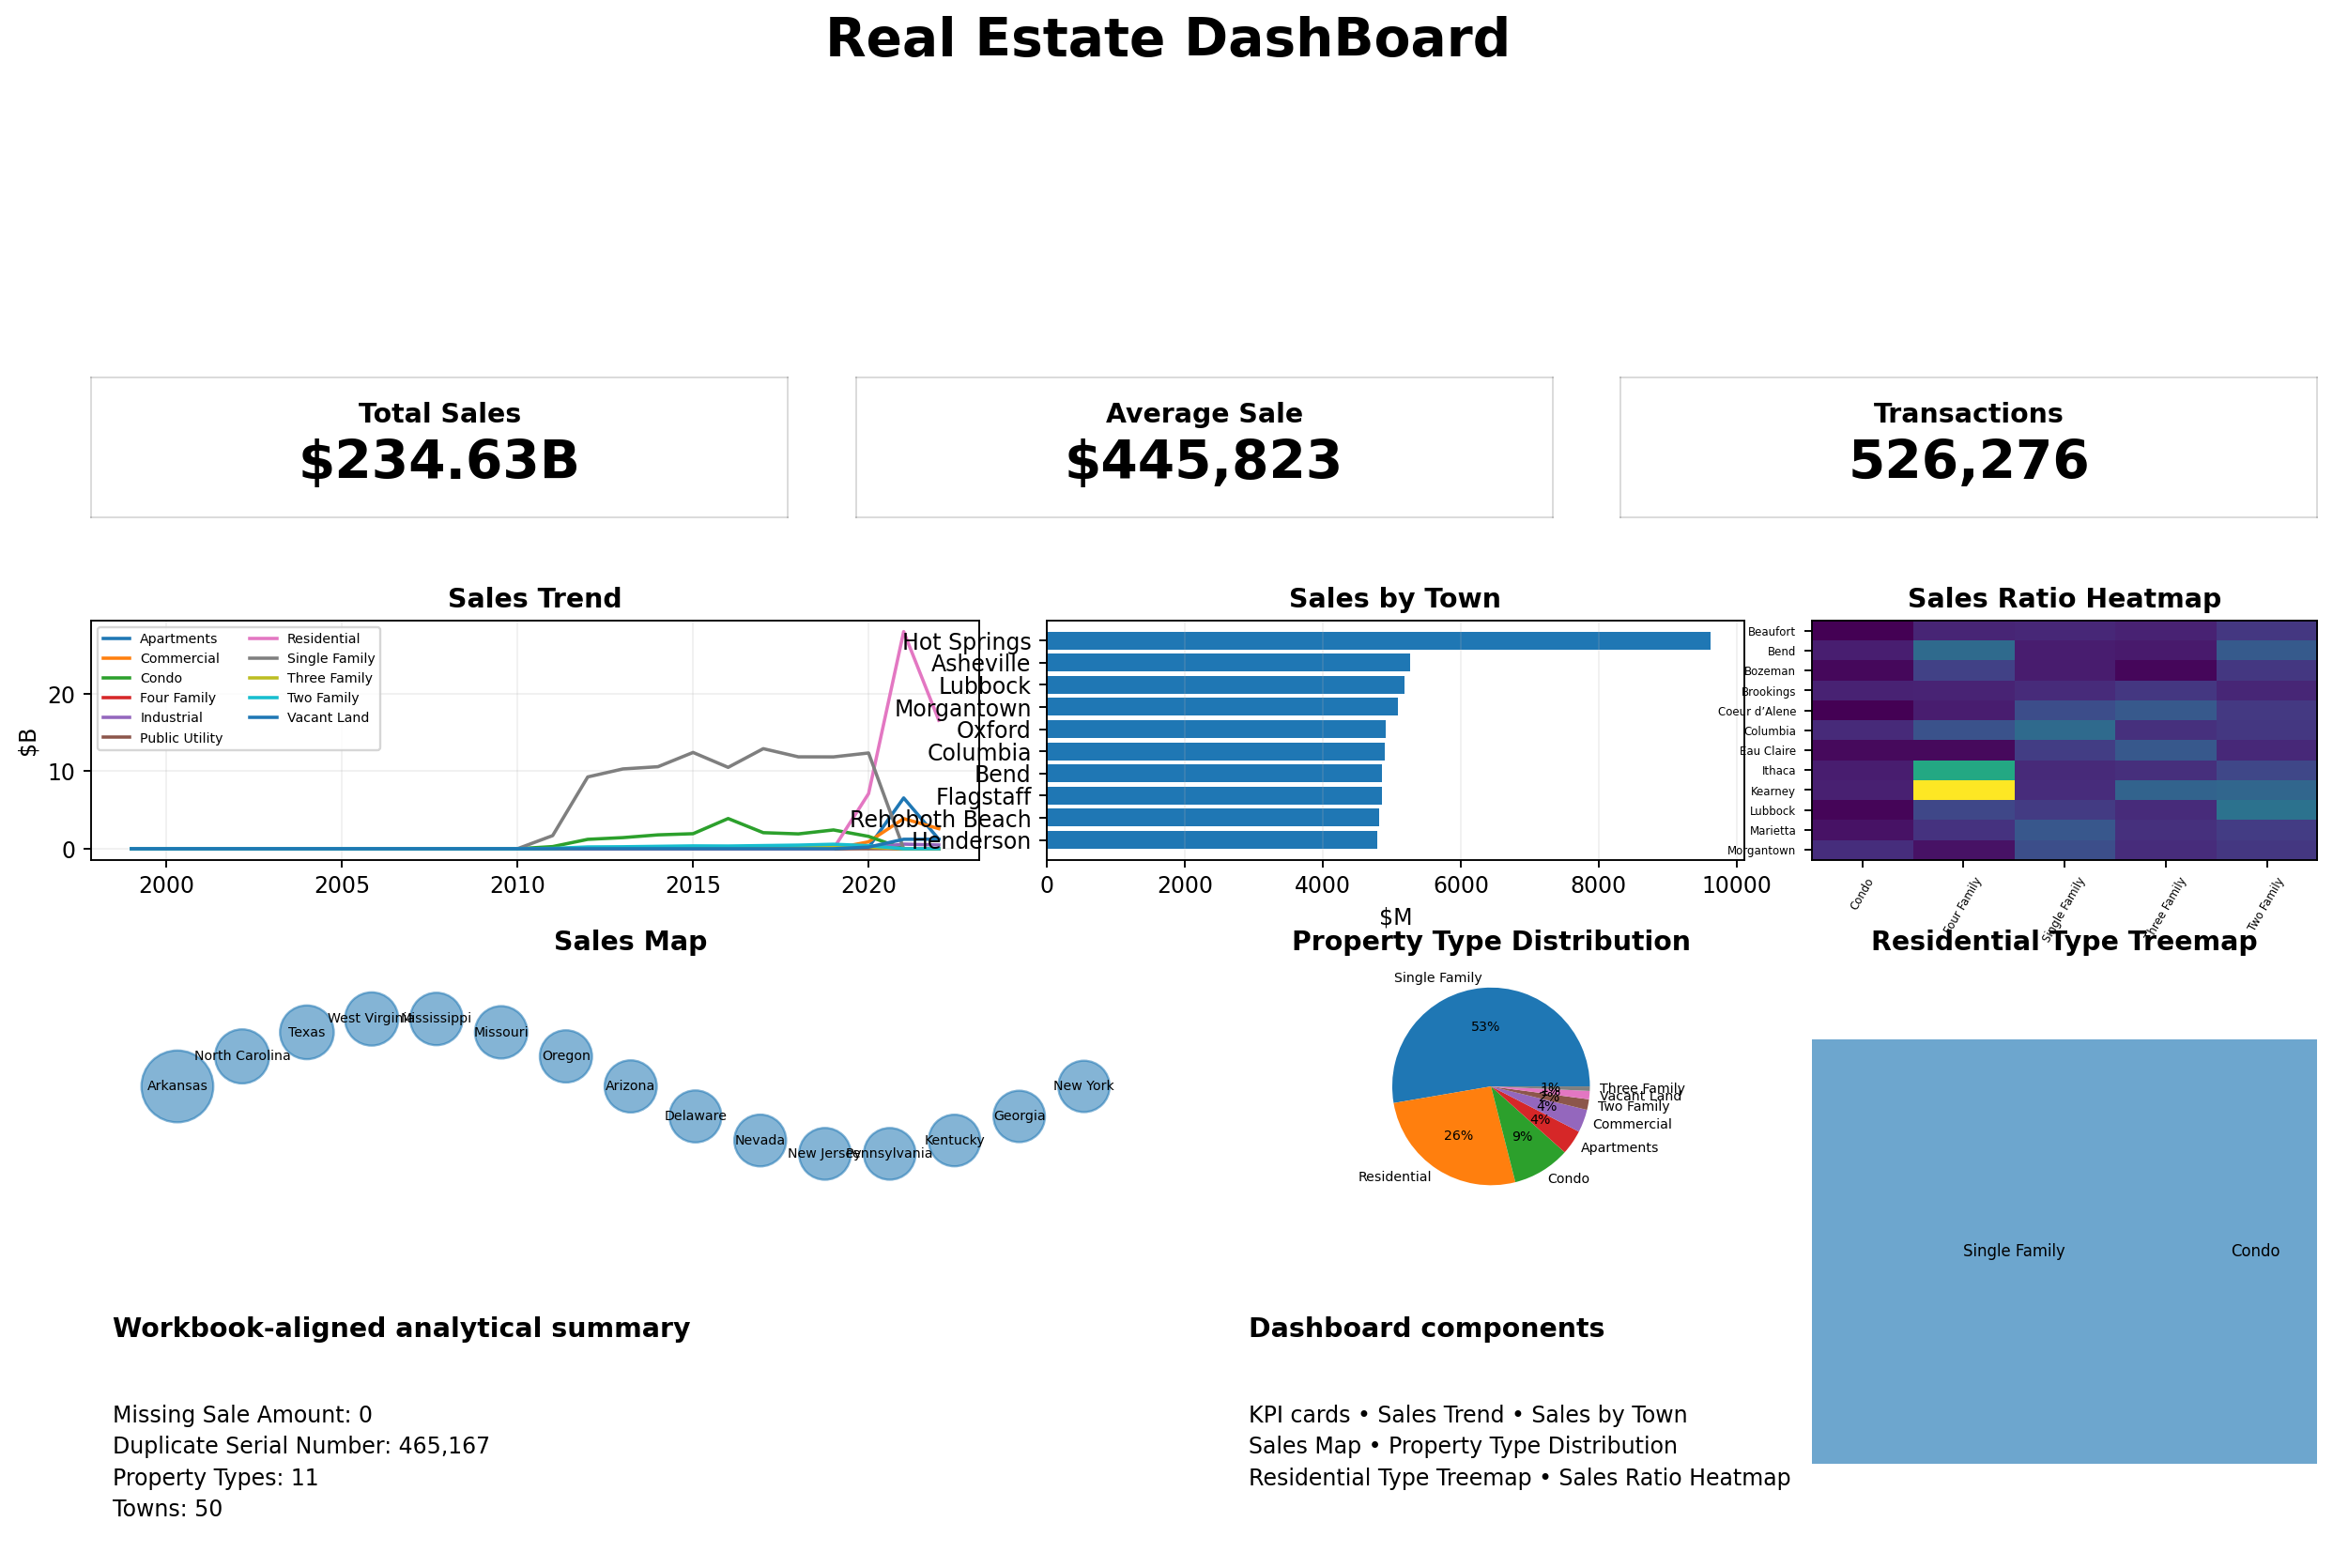

The page's visual inventory and layout, read from the dashboard file:
{"tool":"tableau","page":{"name":"Real Estate DashBoard","canvas":[1200,900],"ordinal":0},"visuals":[{"type":"text","box":[8,8,1031,37]},{"type":"parameter","param":"[Parameters].[Parameter 0372011156000775]","box":[1039,8,153,235]},{"type":"worksheet","title":"KPI - Total Sales","mark":"Automatic","box":[8,45,148,93]},{"type":"worksheet","title":"KPI - Average Sale","mark":"Automatic","box":[156,45,216,93]},{"type":"worksheet","title":"KPI - Transactions","mark":"Automatic","box":[372,45,208,93]},{"type":"legend","title":"Sales Trend","param":"[federated.16gxad20pap9gb0zio2g20zwwqcy].[none:Property Type:nk]","box":[8,138,187.5,87]},{"type":"filter","title":"Sales by Town","param":"[federated.16gxad20pap9gb0zio2g20zwwqcy].[none:Property Type:nk]","box":[195.5,138,168,87]},{"type":"filter","title":"Sales by Town","param":"[federated.16gxad20pap9gb0zio2g20zwwqcy].[none:Calculation_0372011127828480:qk]","box":[363.5,138,160,87]},{"type":"filter","title":"Sales by Town","param":"[federated.16gxad20pap9gb0zio2g20zwwqcy].[none:Town:nk]","box":[523.5,138,168,87]},{"type":"legend","title":"Sales by Town","param":"[federated.16gxad20pap9gb0zio2g20zwwqcy].[none:Town:nk]","box":[691.5,138,187.5,87]},{"type":"legend","title":"Sales Ratio Heatmap","param":"[federated.16gxad20pap9gb0zio2g20zwwqcy].[avg:Sales Ratio:qk]","box":[879,138,160,87]},{"type":"worksheet","title":"Sales Trend","mark":"Line","rows":["Sale Amount"],"cols":["Calculation_0372011127828480"],"box":[8,225,1031,225]},{"type":"worksheet","title":"Sales by Town","mark":"Automatic","rows":["Town"],"cols":["Calculation_0372011156721672"],"box":[8,450,592,221]},{"type":"worksheet","title":"Sales Map","mark":"Multipolygon","box":[600,450,592,221]},{"type":"worksheet","title":"Property Type Distribution","mark":"Pie","box":[8,671,392,221]},{"type":"worksheet","title":"Residential Type Treemap","mark":"Automatic","box":[400,671,396,221]},{"type":"worksheet","title":"Sales Ratio Heatmap","mark":"Square","rows":["Town"],"cols":["Residential Type"],"box":[796,671,396,221]}]}

Visuals, with their boxes on the page's 1200x900 design canvas (x1, y1, x2, y2). These are canvas units, not pixel positions in the 2333x1568 screenshot, which may show the page scaled, cropped or inside an application window:
text: BBox(8, 8, 1039, 45)
parameter: BBox(1039, 8, 1192, 243)
"KPI - Total Sales" worksheet: BBox(8, 45, 156, 138)
"KPI - Average Sale" worksheet: BBox(156, 45, 372, 138)
"KPI - Transactions" worksheet: BBox(372, 45, 580, 138)
"Sales Trend" legend: BBox(8, 138, 196, 225)
"Sales by Town" filter: BBox(196, 138, 364, 225)
"Sales by Town" filter: BBox(364, 138, 524, 225)
"Sales by Town" filter: BBox(524, 138, 692, 225)
"Sales by Town" legend: BBox(692, 138, 879, 225)
"Sales Ratio Heatmap" legend: BBox(879, 138, 1039, 225)
"Sales Trend" worksheet (Line marks): BBox(8, 225, 1039, 450)
"Sales by Town" worksheet: BBox(8, 450, 600, 671)
"Sales Map" worksheet (Multipolygon marks): BBox(600, 450, 1192, 671)
"Property Type Distribution" worksheet (Pie marks): BBox(8, 671, 400, 892)
"Residential Type Treemap" worksheet: BBox(400, 671, 796, 892)
"Sales Ratio Heatmap" worksheet (Square marks): BBox(796, 671, 1192, 892)
